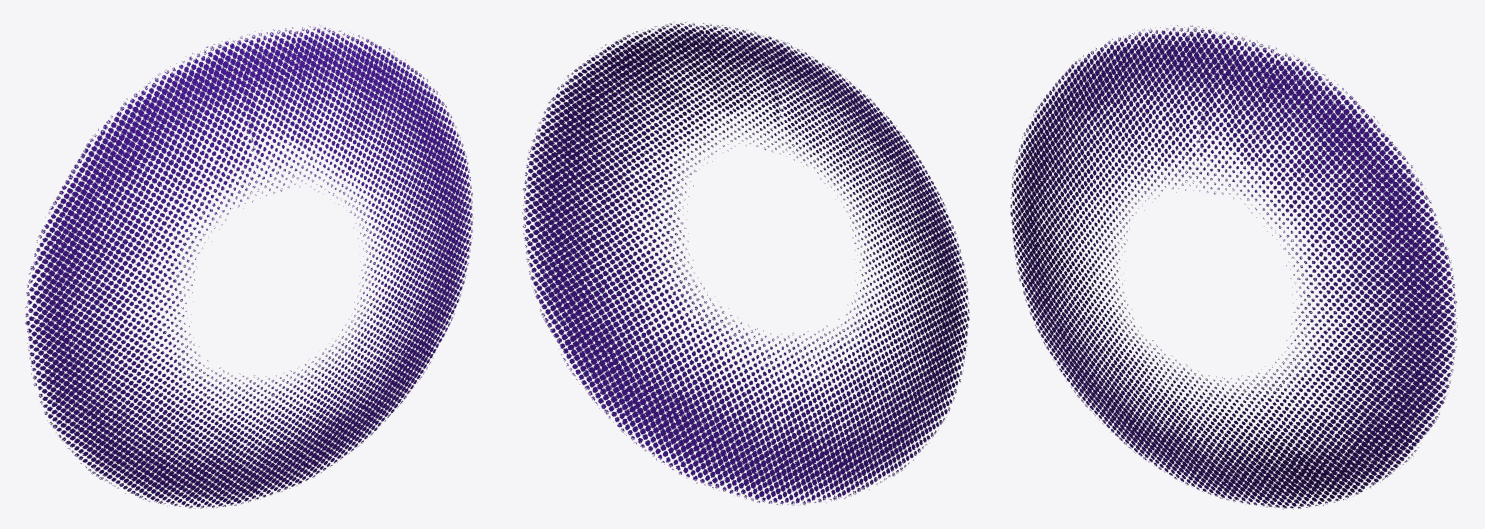
The model's file is lens_model.glb.
The picture shows the model from 3 angles, left to right: view 1: azimuth 30°, elevation 25°; view 2: azimuth 150°, elevation 25°; view 3: azimuth 330°, elevation 25°; orthographic projection.
Parts seen in each view (by area): view 1: Lens; view 2: Lens; view 3: Lens.
Part boxes in pixels (left/top/right/bottom): Lens: left=25, top=24, right=473, bottom=508; Lens: left=522, top=21, right=969, bottom=505; Lens: left=1010, top=25, right=1457, bottom=509.
Size of the model in its own units: 4 by 4 by 0.5.
1 material, 1 textured.
